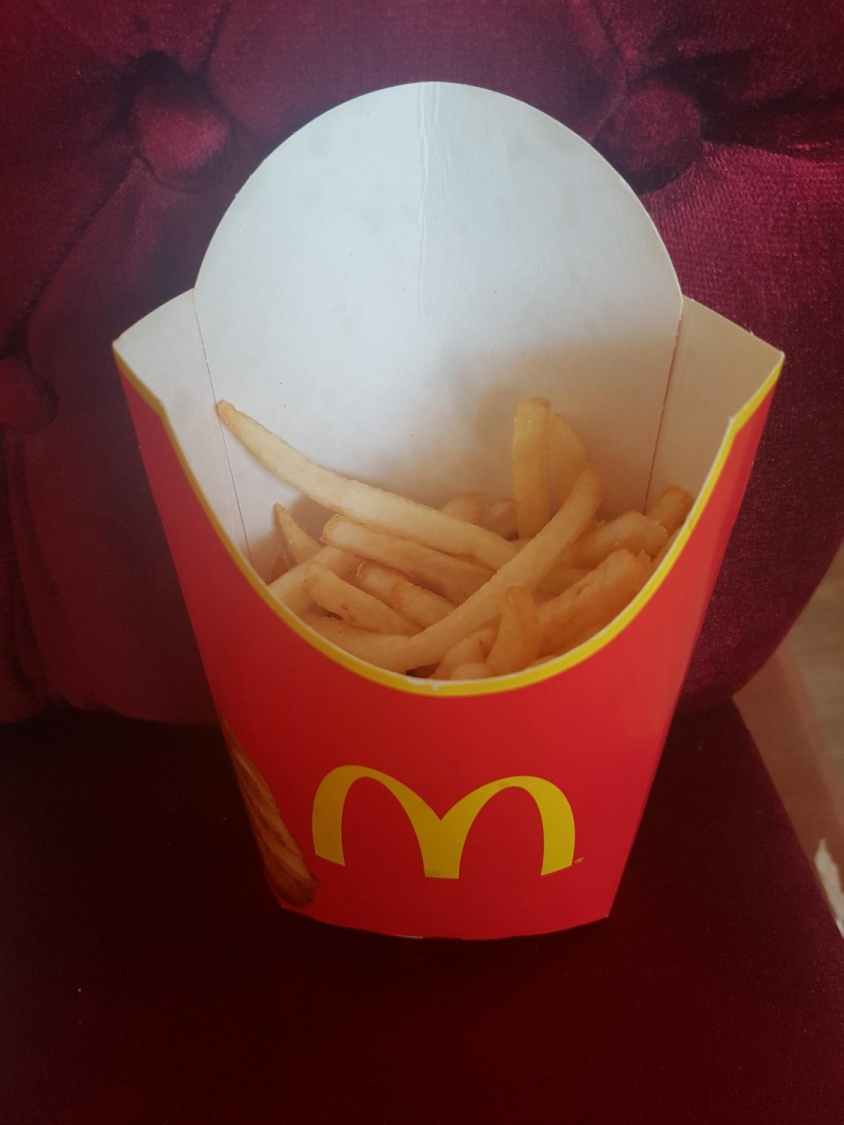mcdonalds: (292, 755, 587, 900)
